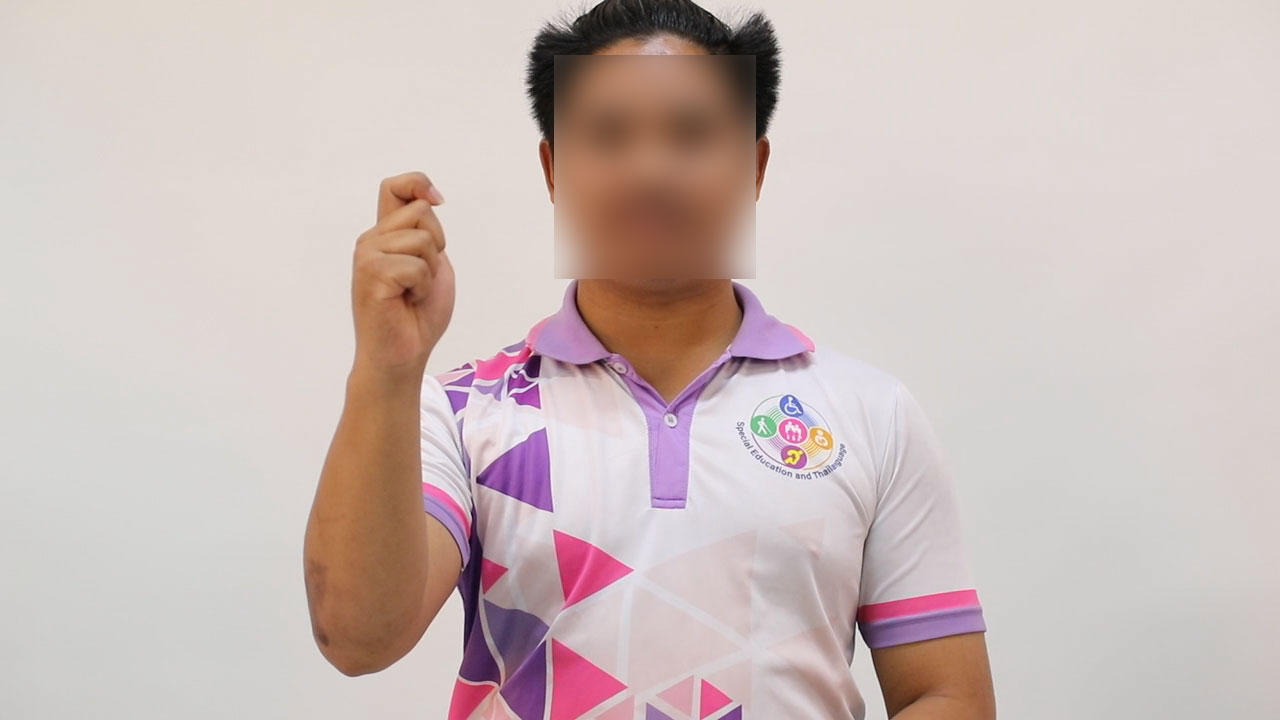or: (341, 164, 466, 381)
